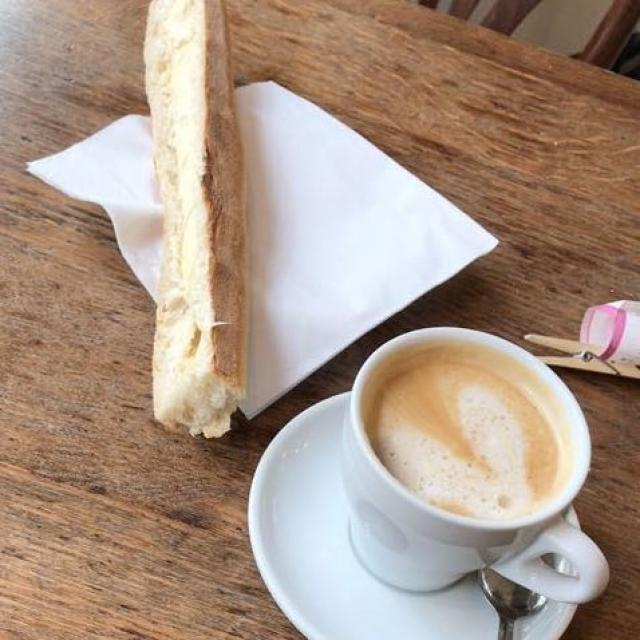bread: (145, 6, 243, 432)
cappuccino: (374, 354, 567, 519)
